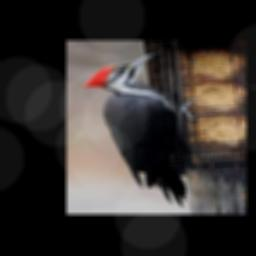Woodpecker: (81, 51, 197, 206)
